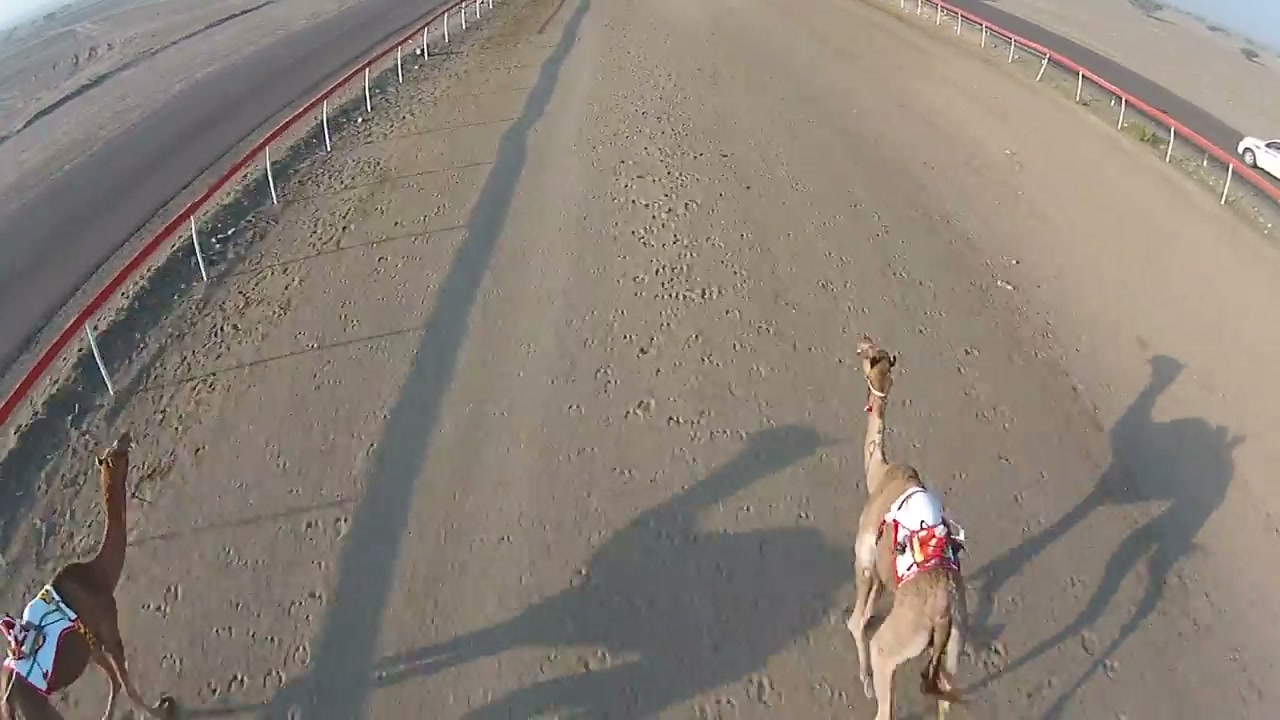animal_foot_print: (582, 67, 735, 602), (120, 468, 397, 719)
